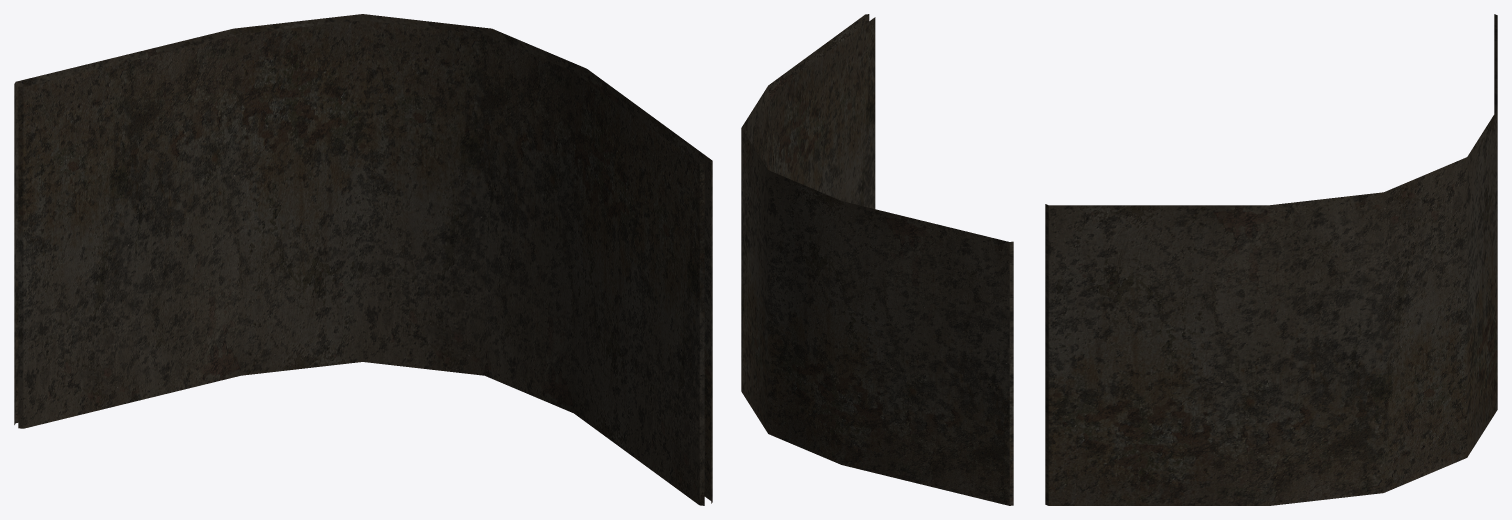
File: wall_1_round.obj
3 views of the same model, side by side, from view 1: azimuth 30°, elevation 25°; view 2: azimuth 150°, elevation 25°; view 3: azimuth 270°, elevation 25° (orthographic). The views are drawn at different scales.
Visible parts, largest first — view 1: wall_1_round; view 2: wall_1_round; view 3: wall_1_round.
Boxes of the visible parts, bbox=[...] form: wall_1_round: bbox=[14, 14, 712, 505]; wall_1_round: bbox=[741, 14, 1013, 505]; wall_1_round: bbox=[1045, 14, 1497, 505].
Bounding box in the file's own units: 4.09 × 3 × 4.09.
